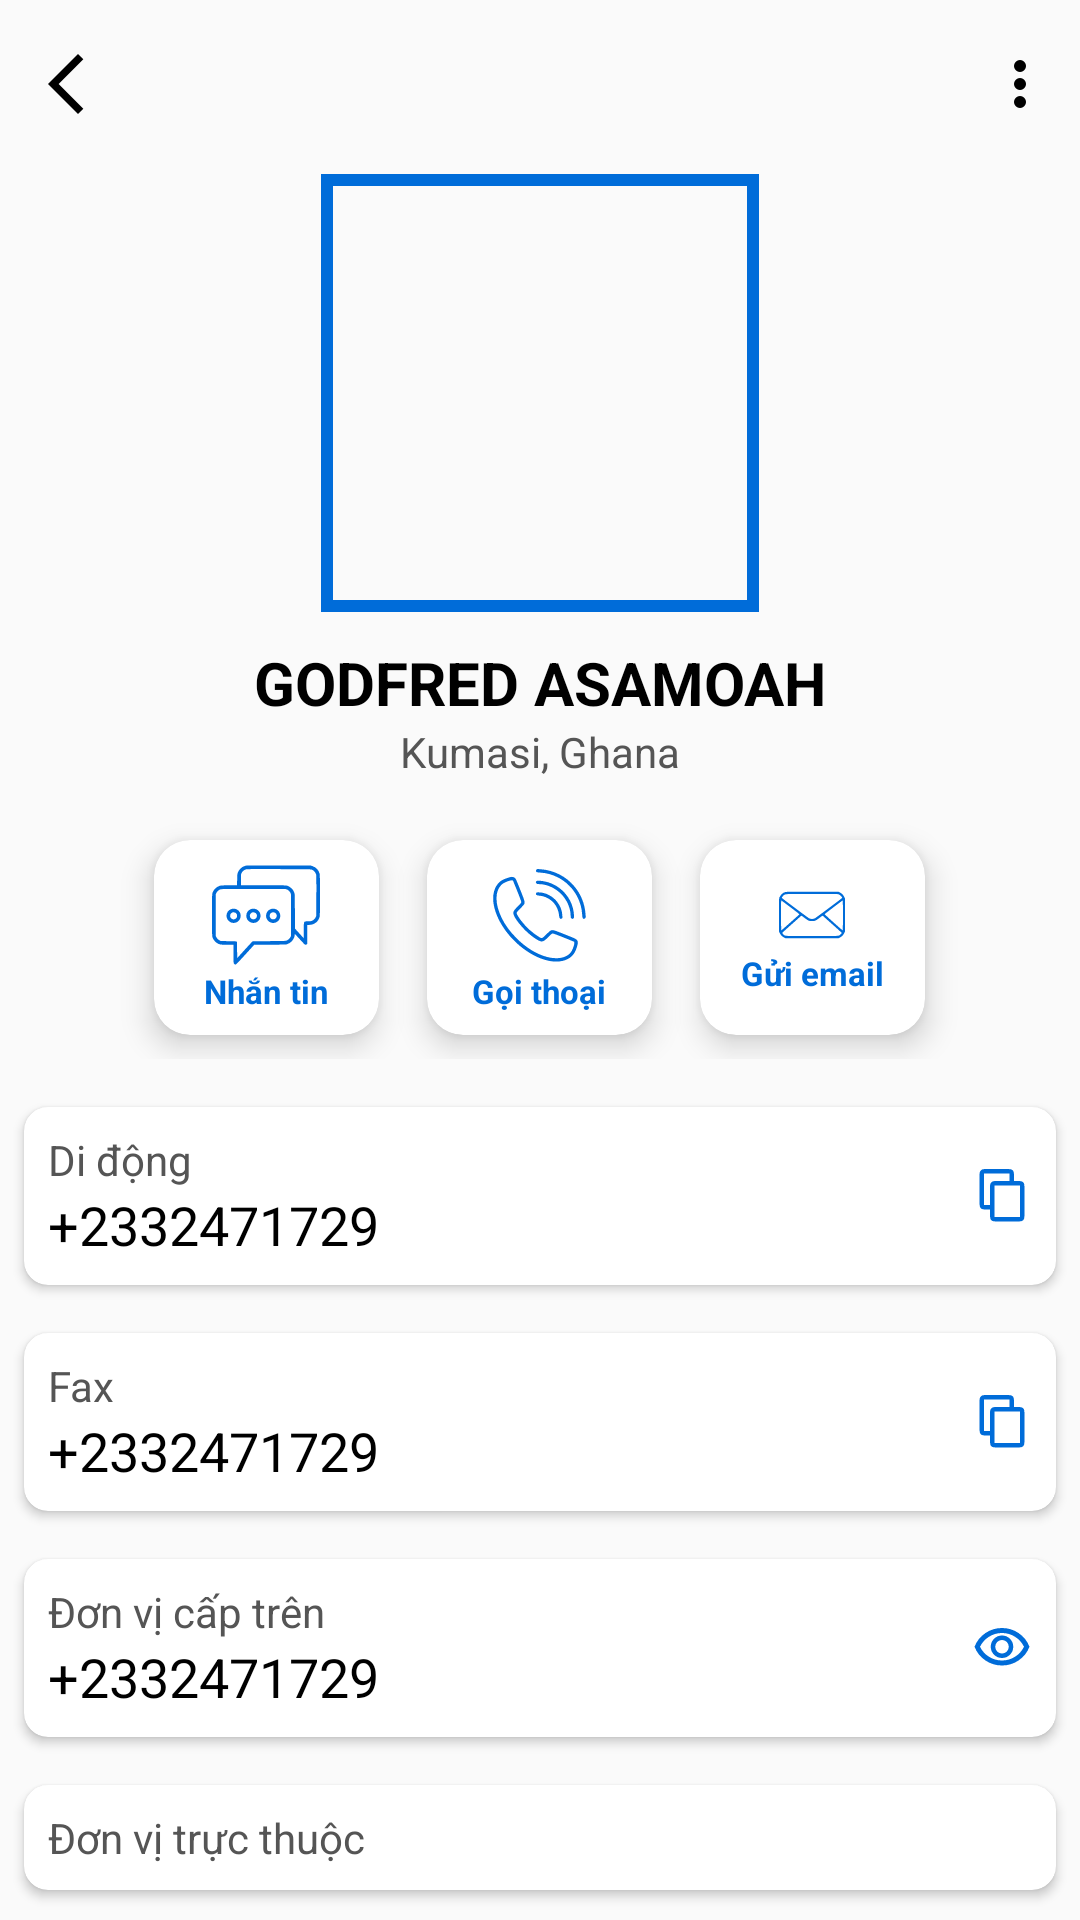

Where to tap for icons on this 1080 × 1920 app screen, as (x,y):
arrow back: (65,84)
more vert: (1020,84)
visibility: (1002,1647)
